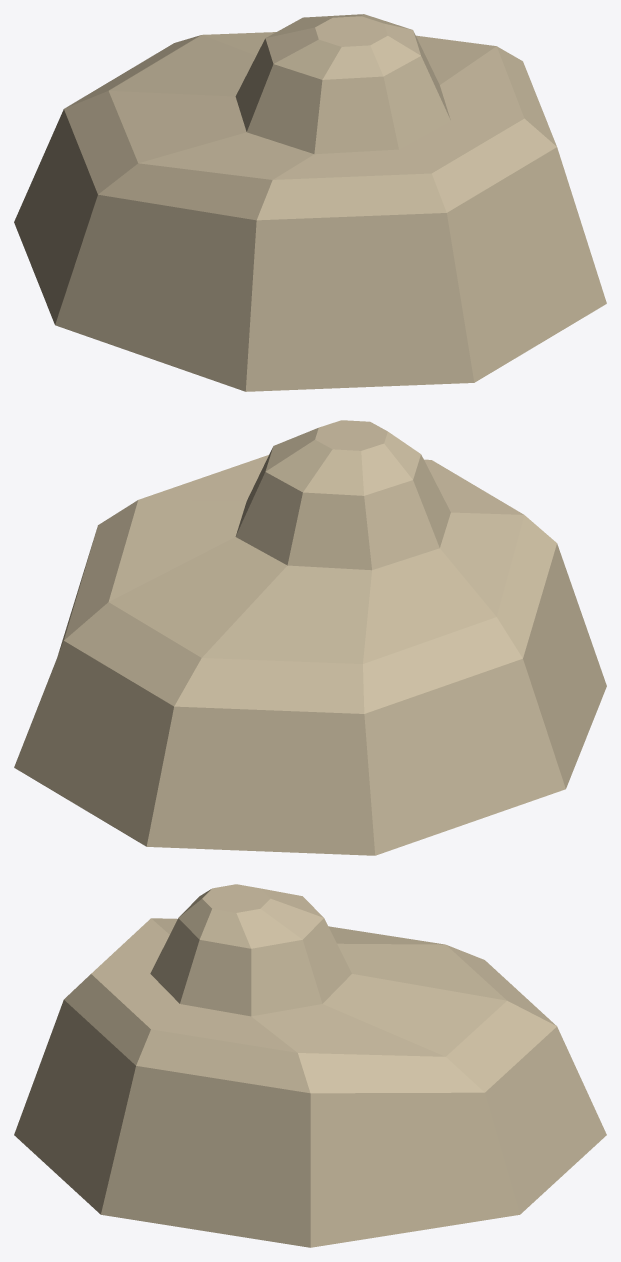
File: Rock1a.fbx
3 views of the same model, one above another, from view 1: azimuth 30°, elevation 25°; view 2: azimuth 150°, elevation 25°; view 3: azimuth 270°, elevation 25° (orthographic). The views are drawn at different scales.
Visible parts, largest first — view 1: Circle; view 2: Circle; view 3: Circle.
Part boxes in pixels (x1,y1,x2,y2): Circle: [14, 14, 606, 391]; Circle: [14, 420, 606, 855]; Circle: [14, 884, 606, 1247].
Size of the model in its own units: 180 by 88 by 200.
